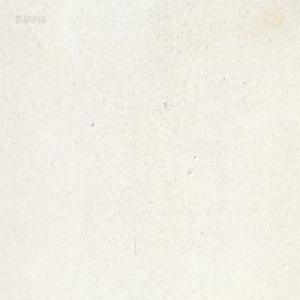Washer: (163, 101, 166, 107)
